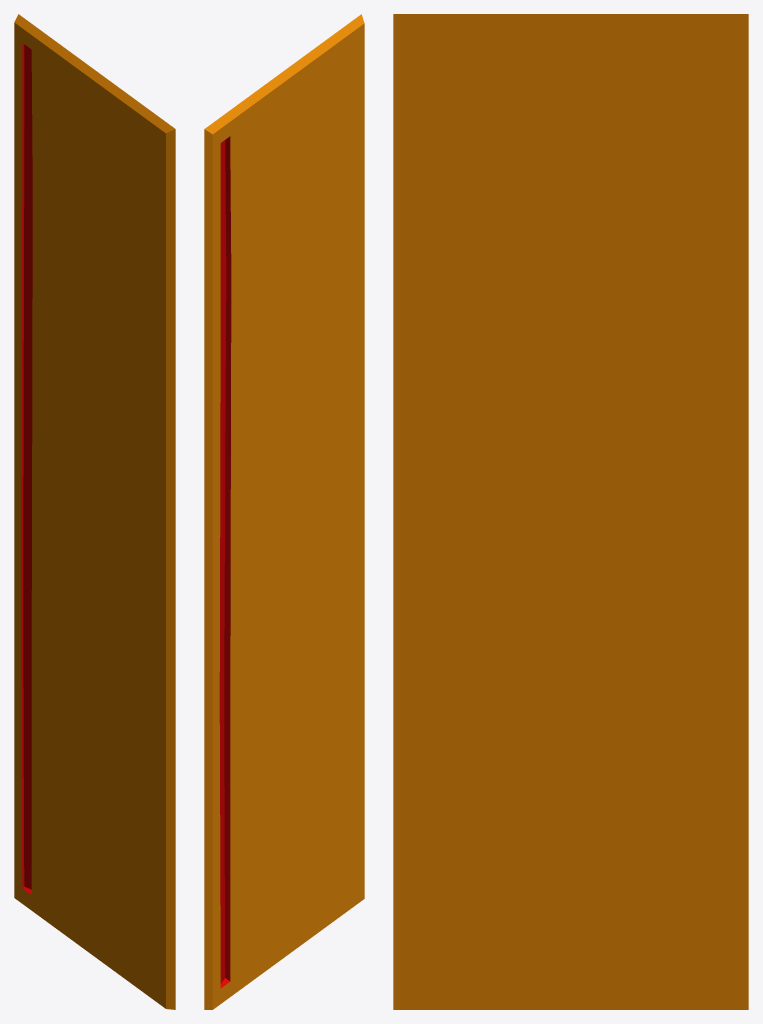
The model's file is Hallway_Door_1.fbx.
3 renders of one model, left to right at view 1: azimuth 30°, elevation 25°; view 2: azimuth 150°, elevation 25°; view 3: azimuth 270°, elevation 25°, orthographic. The views are drawn at different scales.
Parts seen in each view (by area): view 1: Hallway_Door_1; view 2: Hallway_Door_1; view 3: Hallway_Door_1.
Boxes of the visible parts, x1,y1,x2,y2 form: Hallway_Door_1: (14, 14, 175, 1009); Hallway_Door_1: (204, 14, 364, 1009); Hallway_Door_1: (393, 14, 748, 1009).
Bounding box in the file's own units: 2.69 × 359 × 116.
